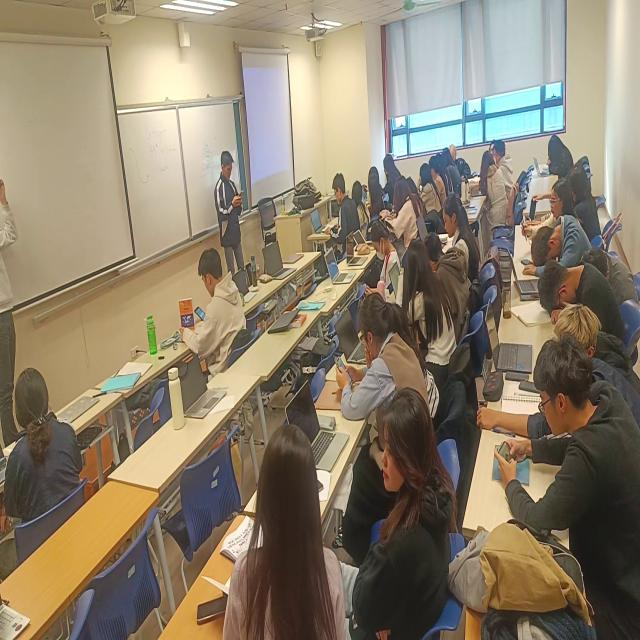raise_head: (3, 360, 87, 523), (394, 233, 460, 376), (417, 163, 444, 219), (351, 173, 372, 235), (430, 153, 448, 206)
read: (380, 173, 421, 245), (381, 151, 405, 207), (443, 146, 464, 193)
sleep: (538, 257, 630, 347), (519, 211, 591, 276), (584, 243, 640, 306)
stand: (1, 158, 25, 446), (214, 144, 250, 278)
using_computer: (425, 224, 474, 341), (419, 192, 479, 273), (310, 170, 361, 251), (531, 129, 575, 181)
using_phone: (493, 331, 640, 638), (336, 291, 432, 444), (178, 242, 248, 382), (520, 172, 584, 243), (568, 158, 604, 241), (365, 163, 387, 222)
